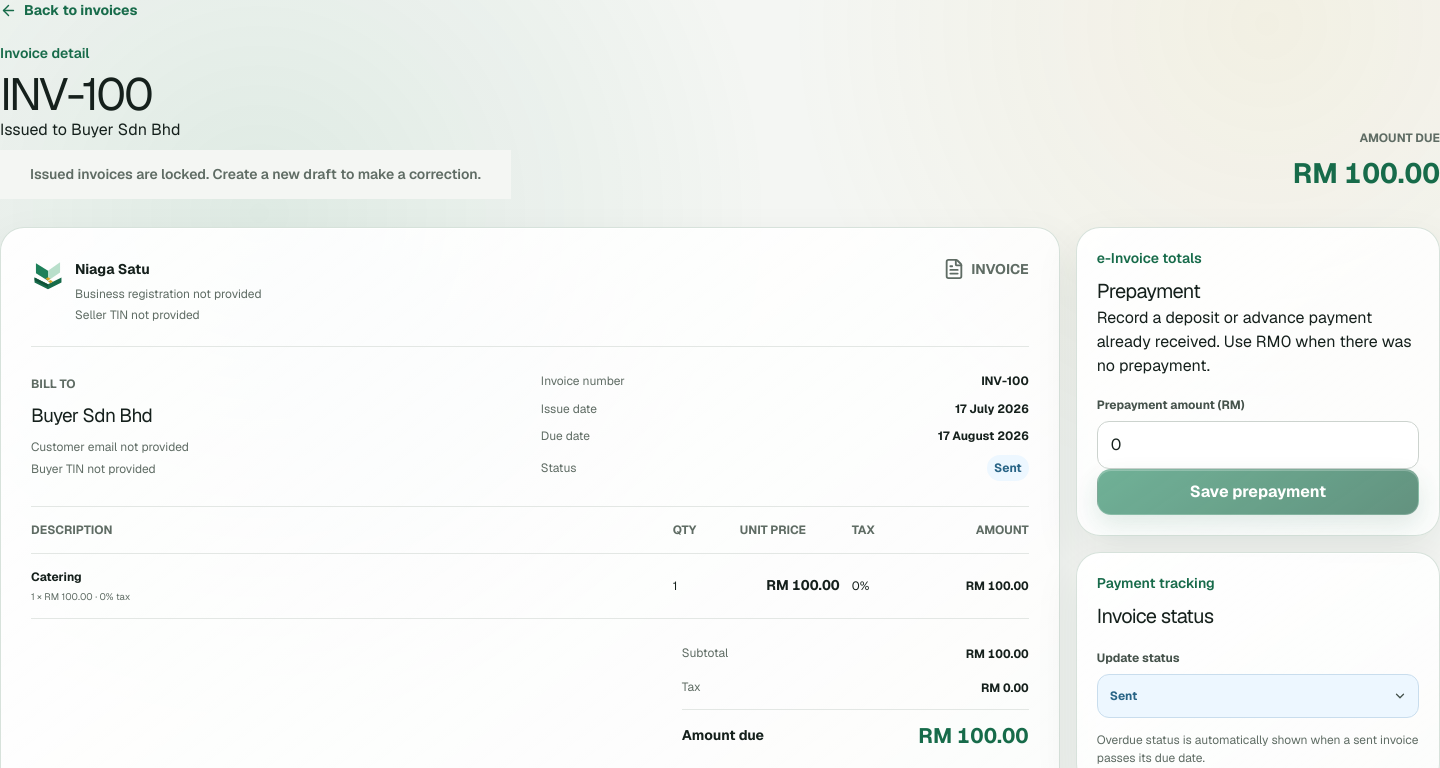
Test case: InvoiceDetail prepayment › rejects an amount above the source invoice total before persistence
The image size is (1440, 768).
Replace the text in the number field labelled "Prepayment amount (RM)" with "101" at (1258, 445), box [1097, 421, 1419, 469]
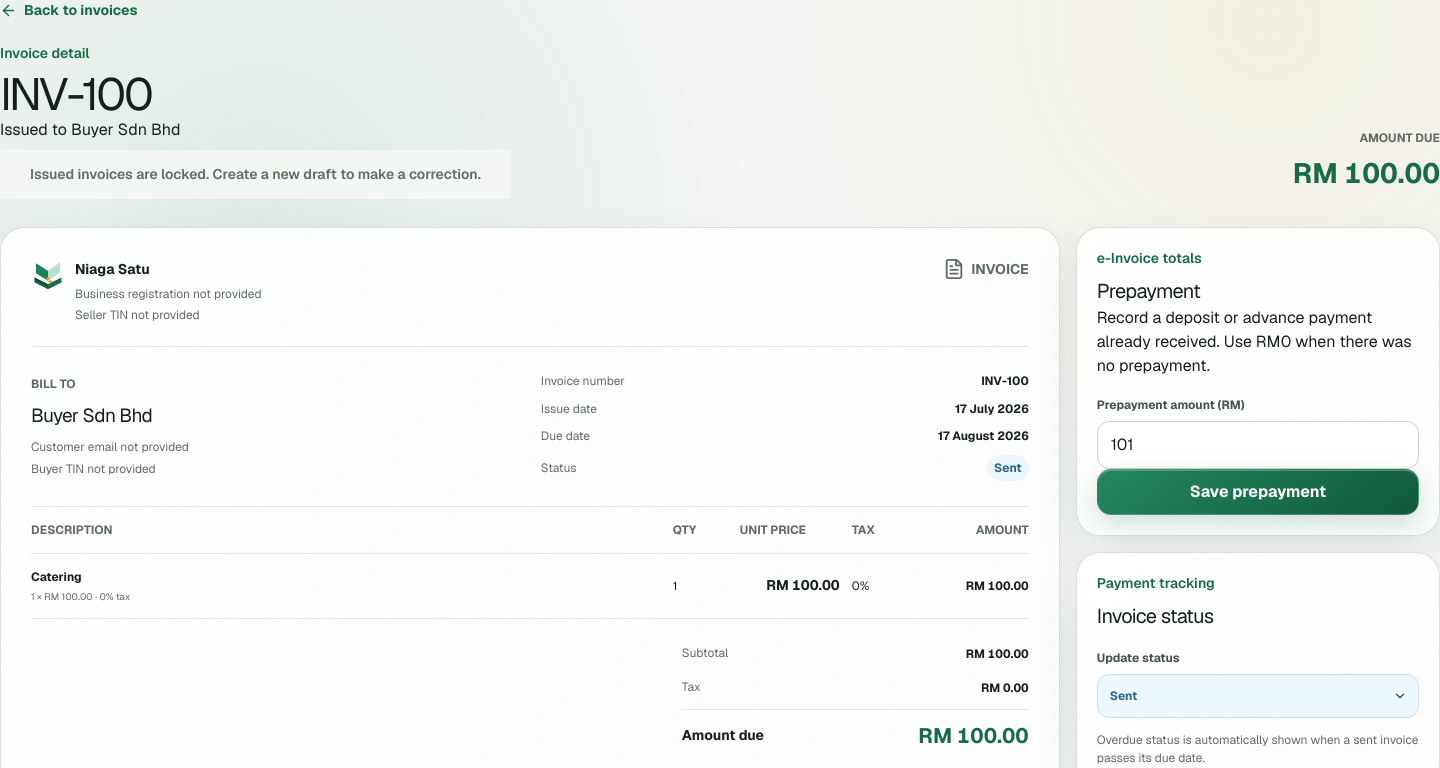
Click the button "Save prepayment" at (1258, 492), box [1097, 469, 1419, 515]
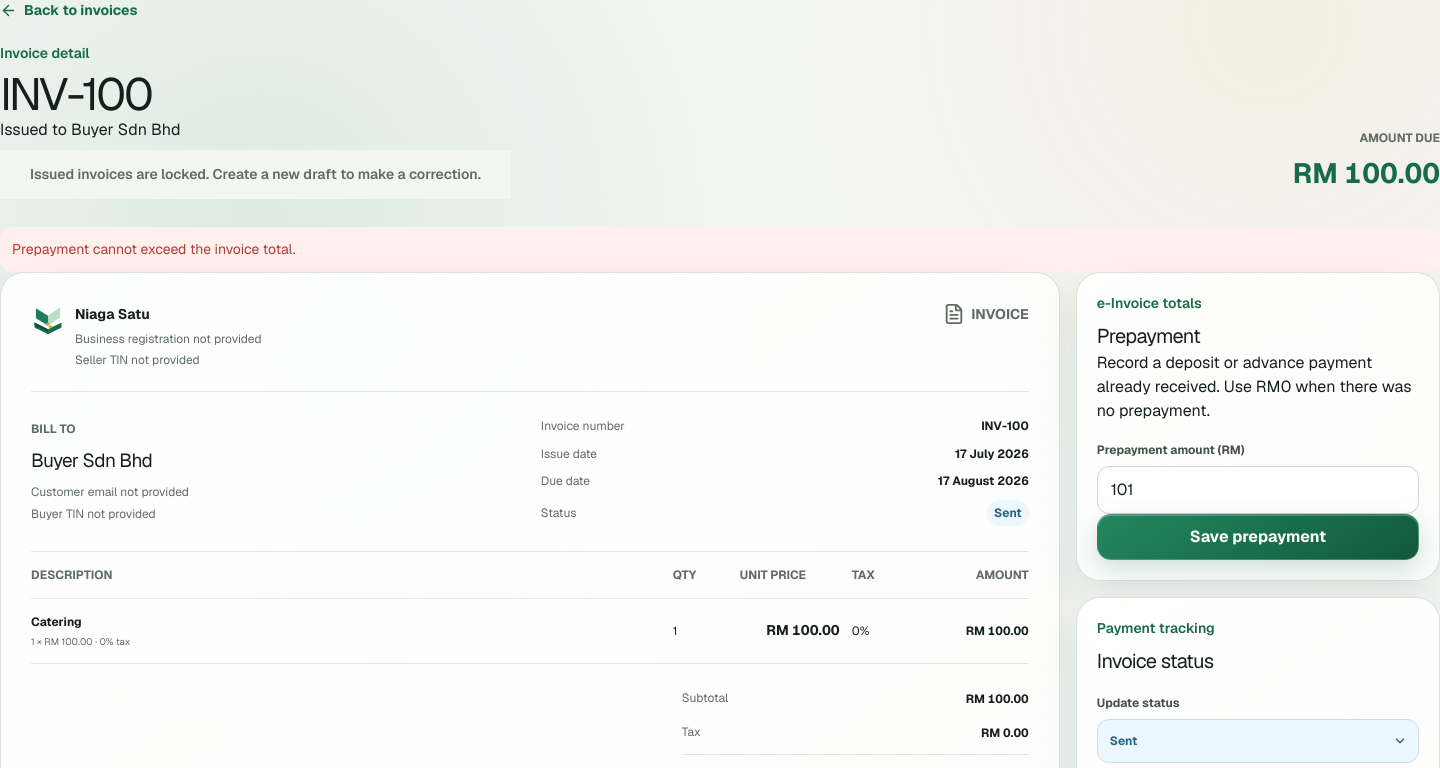
Now the message shows "Prepayment cannot exceed the invoice total", box [12, 240, 296, 258]
